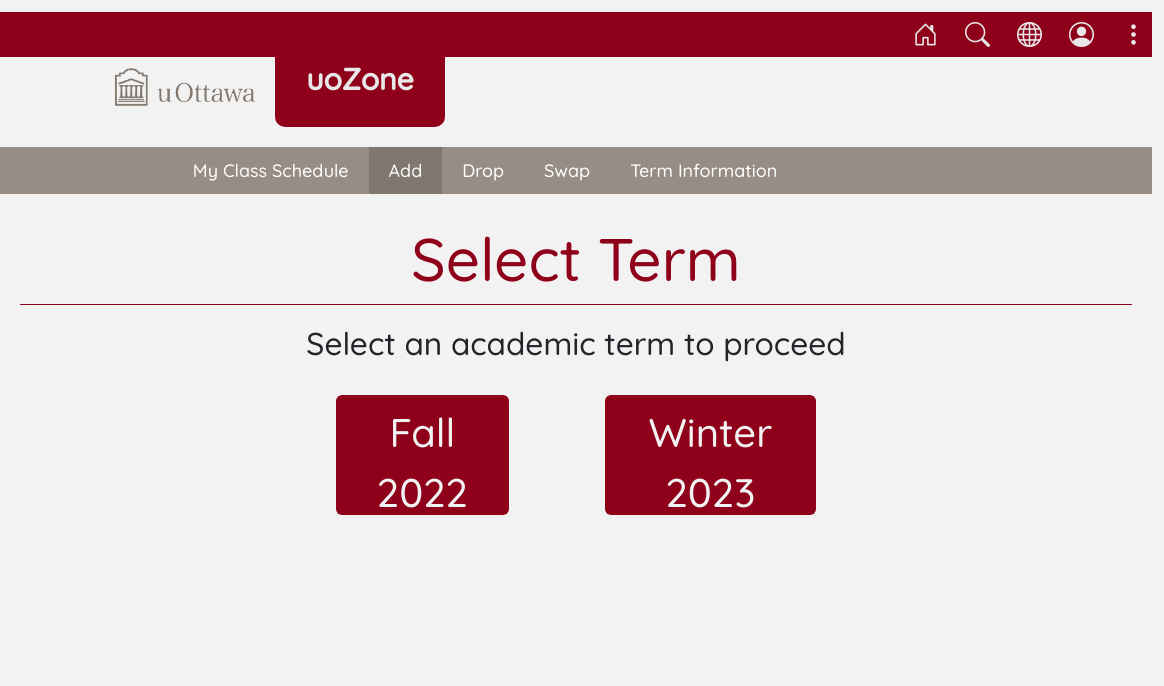
Test case: Testing Home Page › Check the redirection to shopping cart
Click the button with id "fall-2022-btn". click: (423, 455)
box: [336,395,509,515]
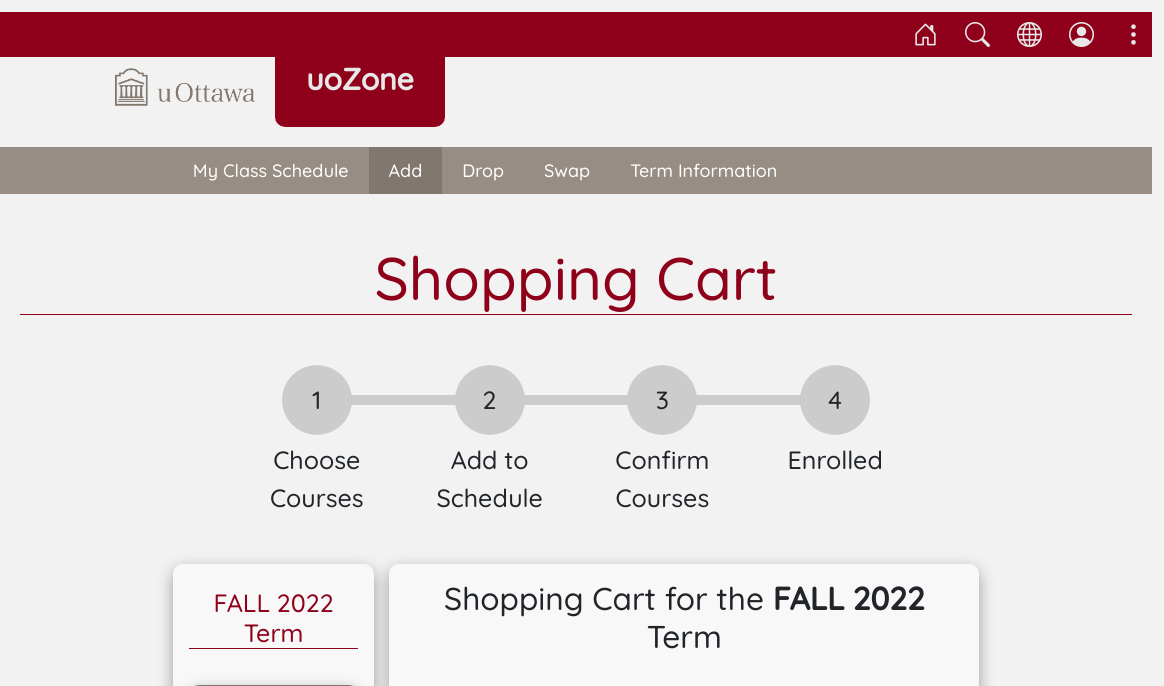
expect the heading "Shopping Cart" is shown: met, box [20,242,1132,315]
